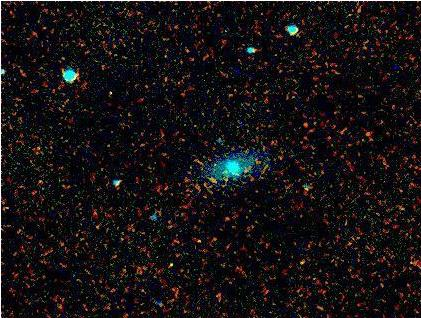star: (196, 165, 226, 195)
